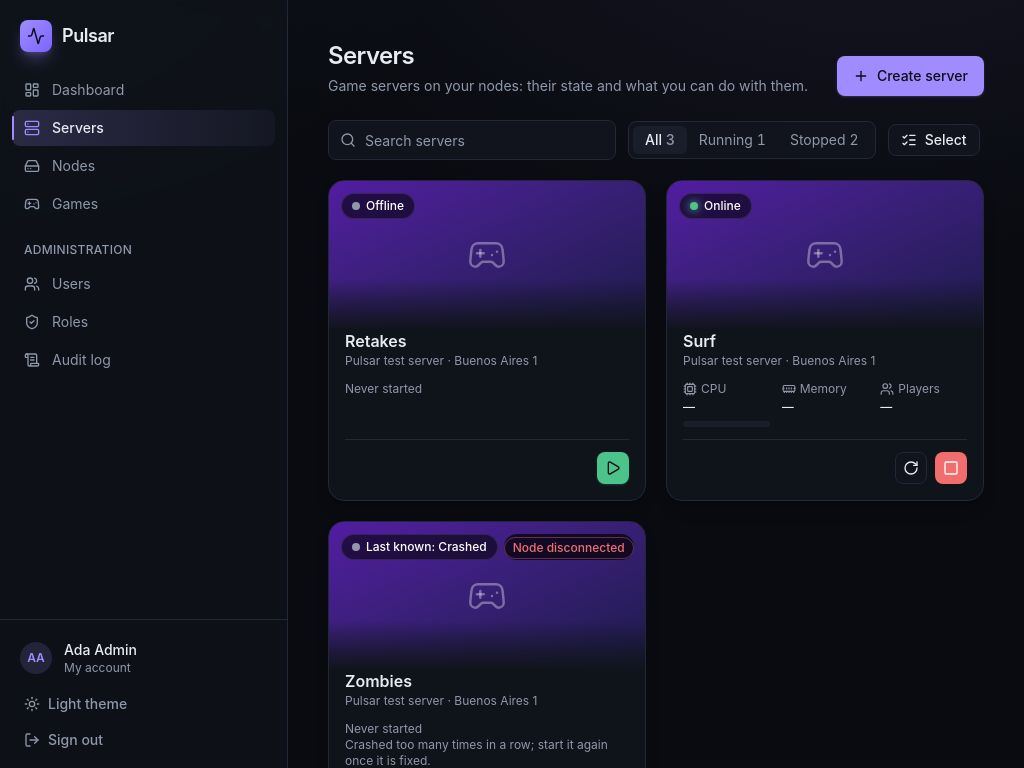
Test: actions on several servers › asks each server it applies to, and says why the others were skipped
Click the button "Select".
click(934, 140)  # box top-left (888, 124), bottom-right (980, 156)
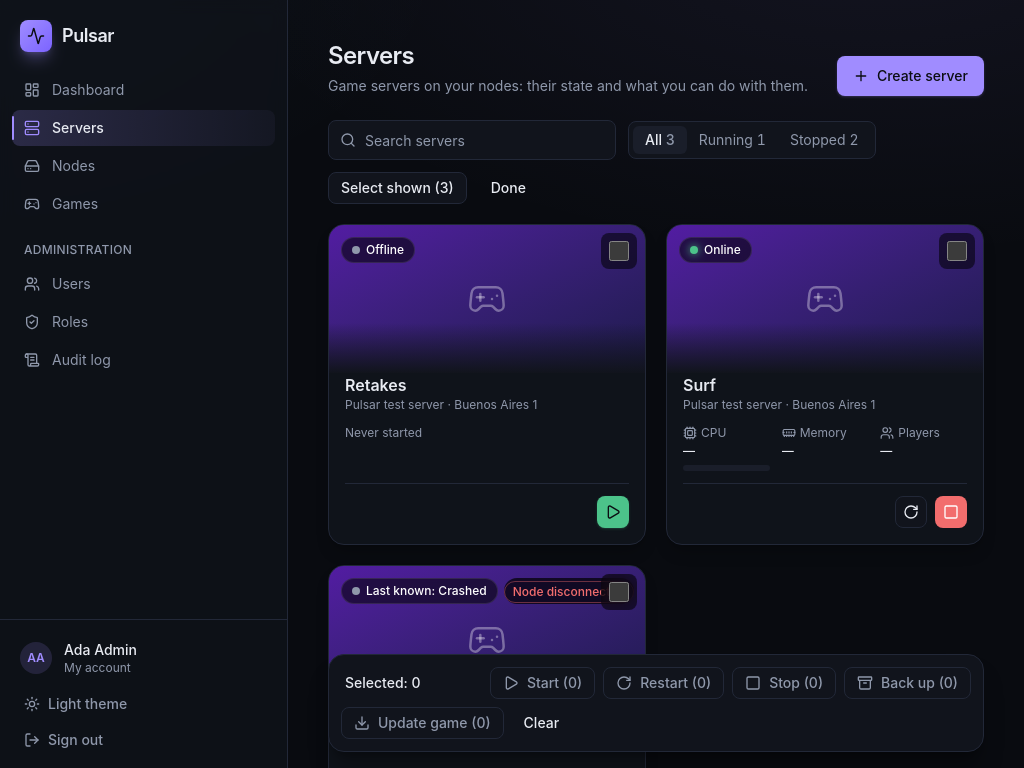
Click the button "Select shown (3)".
click(397, 188)  # box top-left (328, 172), bottom-right (467, 204)
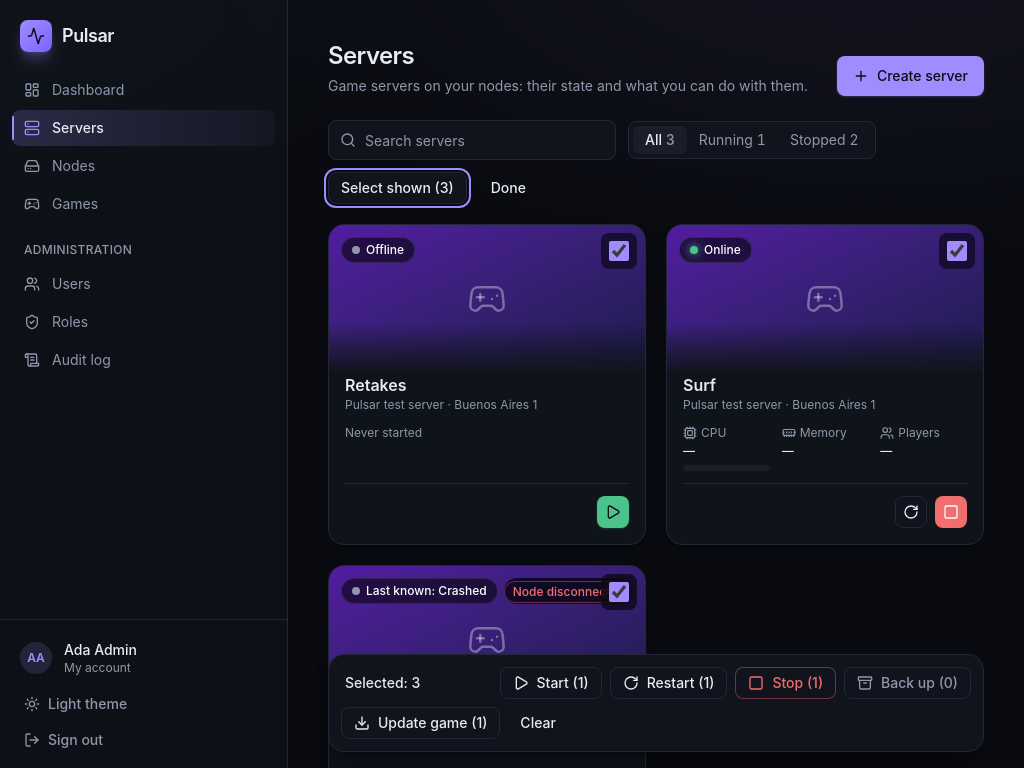
Expected: the element named "Actions on the selected servers" shows "Selected: 3", top-left (345, 674), bottom-right (420, 691)
Expected: the button "Stop (1)" is enabled, top-left (735, 667), bottom-right (836, 699)
Click the button "Start (1)".
click(551, 683)  # box top-left (500, 667), bottom-right (602, 699)
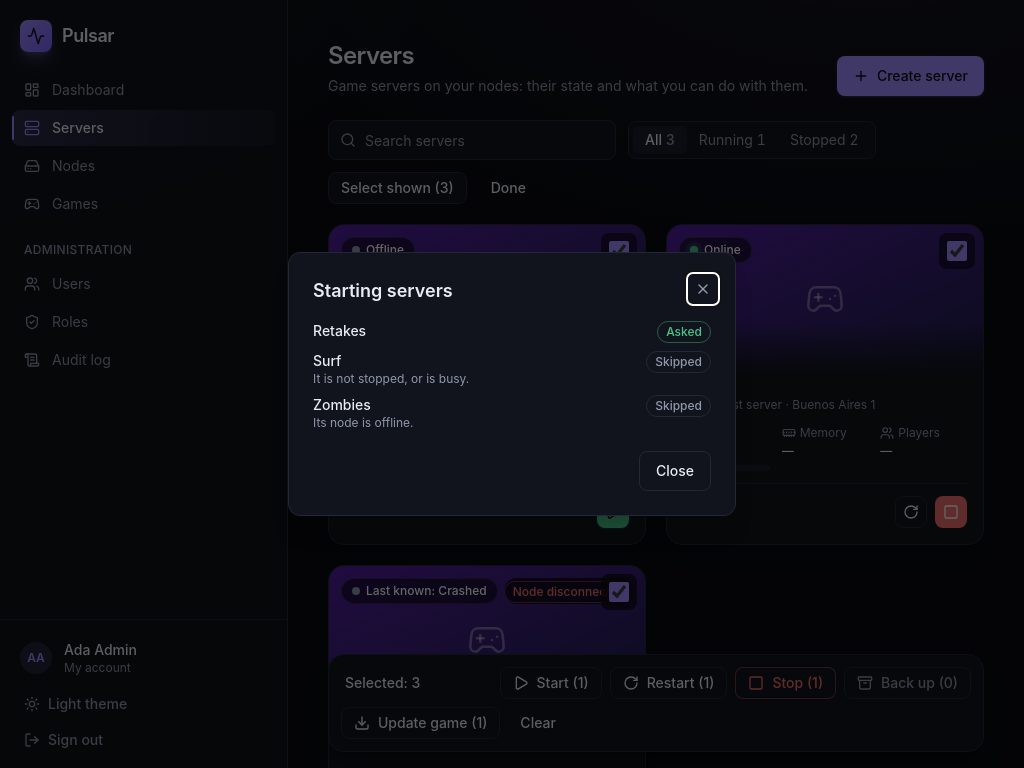
Expected: the list items read "RetakesAsked", "SurfIt is not stopped, or is busy.Skipped", "ZombiesIts node is offline.Skipped", in this order, top-left (313, 321), bottom-right (711, 343); top-left (313, 351), bottom-right (711, 387); top-left (313, 395), bottom-right (711, 431)
